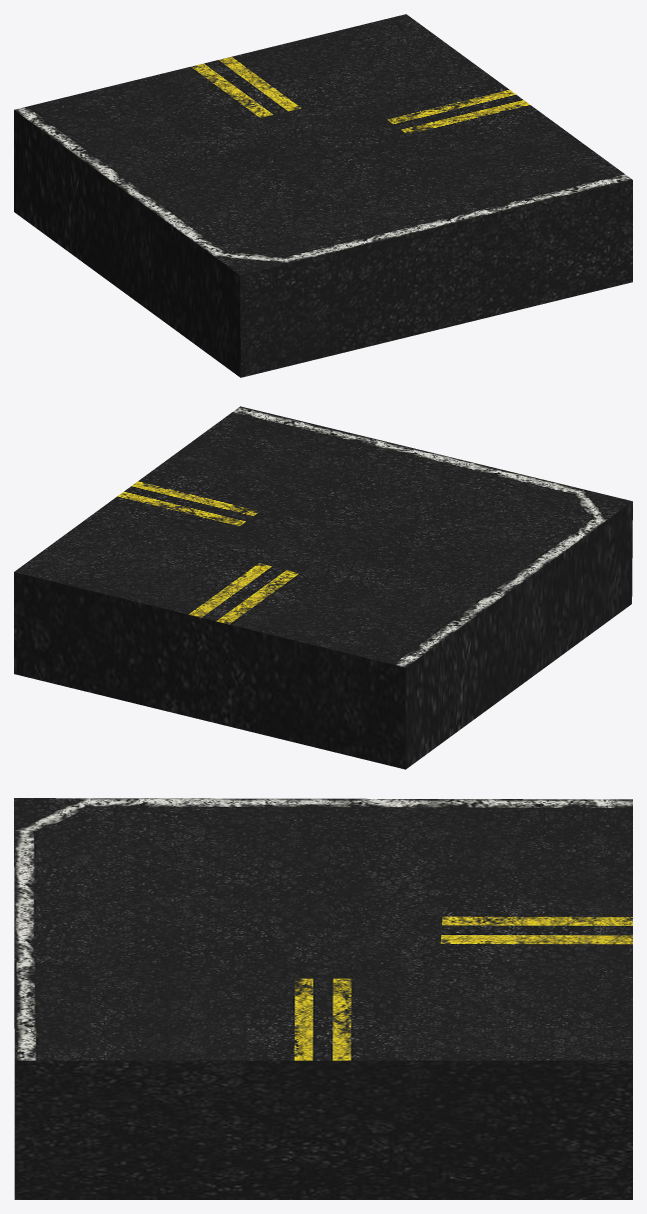
File: Model_Road_Corner.fbx
The picture shows the model from 3 angles, top to bottom: view 1: azimuth 30°, elevation 25°; view 2: azimuth 150°, elevation 25°; view 3: azimuth 270°, elevation 25°; orthographic projection. The views are drawn at different scales.
Parts seen in each view (by area): view 1: PavementTurn; view 2: PavementTurn; view 3: PavementTurn.
Part boxes in pixels (left/top/right/bottom): PavementTurn: left=14, top=14, right=632, bottom=377; PavementTurn: left=14, top=406, right=632, bottom=769; PavementTurn: left=14, top=798, right=632, bottom=1199.
Size of the model in its own units: 25 by 100 by 100.
1 material, 1 textured.
